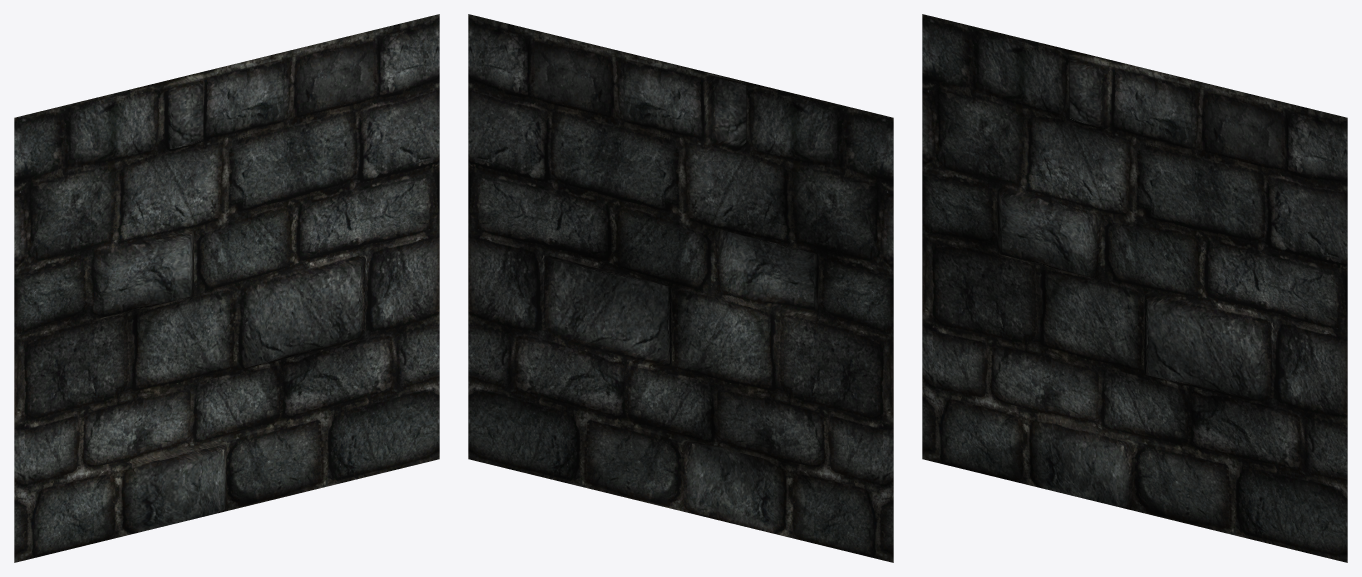
Rendered from default_square_brick_exstension.dae.
3 renders of one model, left to right at view 1: azimuth 30°, elevation 25°; view 2: azimuth 150°, elevation 25°; view 3: azimuth 330°, elevation 25°, orthographic.
Visible parts, largest first — view 1: polySurface121; view 2: polySurface121; view 3: polySurface121.
Boxes of the visible parts, x1,y1,x2,y2 form: polySurface121: [14, 14, 439, 562]; polySurface121: [468, 14, 893, 562]; polySurface121: [922, 14, 1347, 562].
Bounding box in the file's own units: 4 × 4 × 0.1198.
